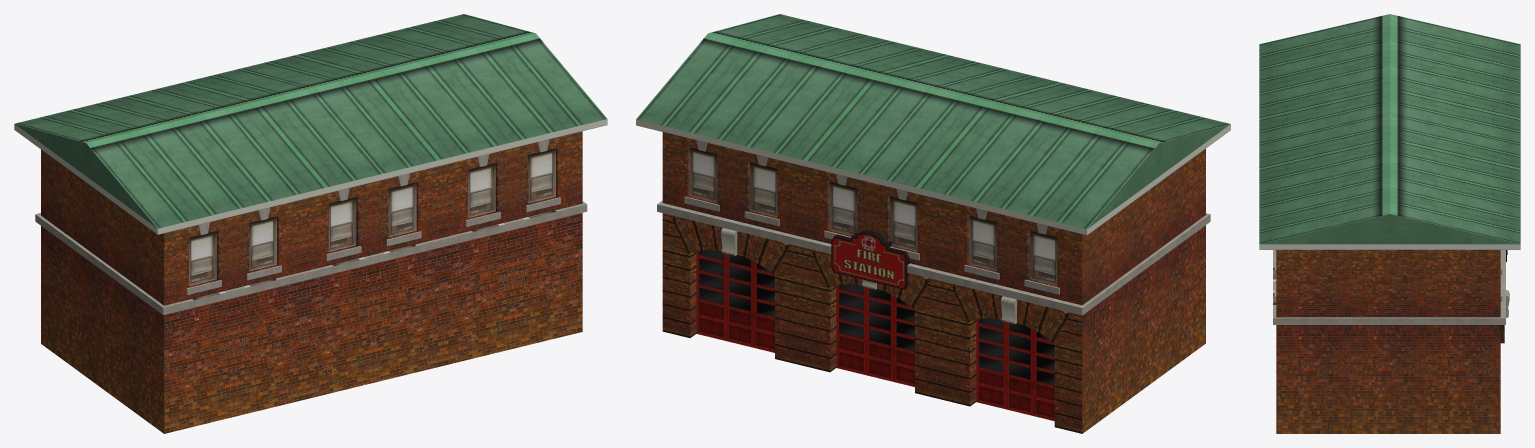
File: fire_station.dae
3 renders of one model, left to right at view 1: azimuth 30°, elevation 25°; view 2: azimuth 150°, elevation 25°; view 3: azimuth 270°, elevation 25°, orthographic. The views are drawn at different scales.
Parts seen in each view (by area): view 1: FireStation; view 2: FireStation; view 3: FireStation.
Part boxes in pixels (box(x1,y1,x2,y2)): FireStation: box(14, 14, 607, 433); FireStation: box(636, 14, 1230, 433); FireStation: box(1259, 14, 1520, 433).
Size of the model in its own units: 845 by 467 by 447.
